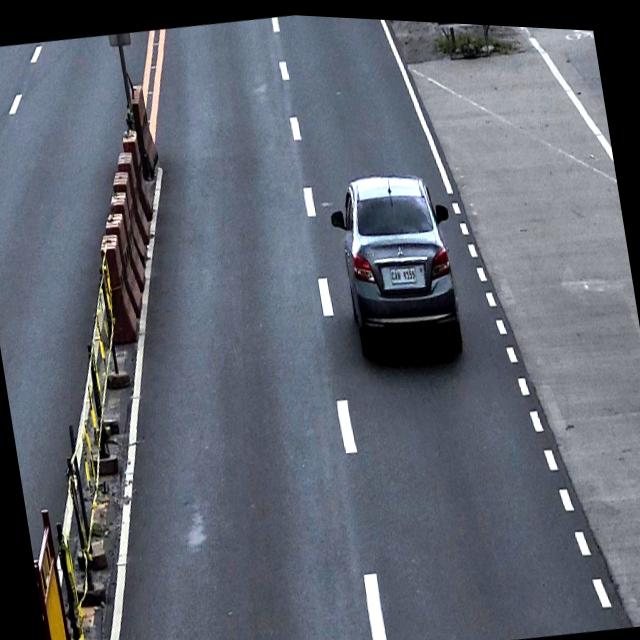Car: (324, 158, 470, 363)
License-Plate: (390, 260, 418, 283)
